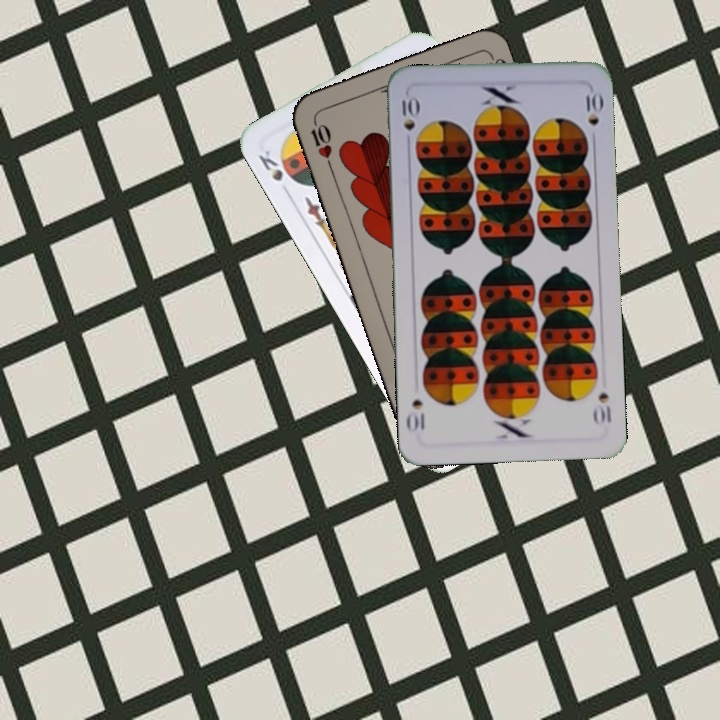H10: (307, 114, 335, 172)
S10: (398, 90, 420, 133), (590, 388, 614, 427)
SK: (254, 145, 293, 199)
